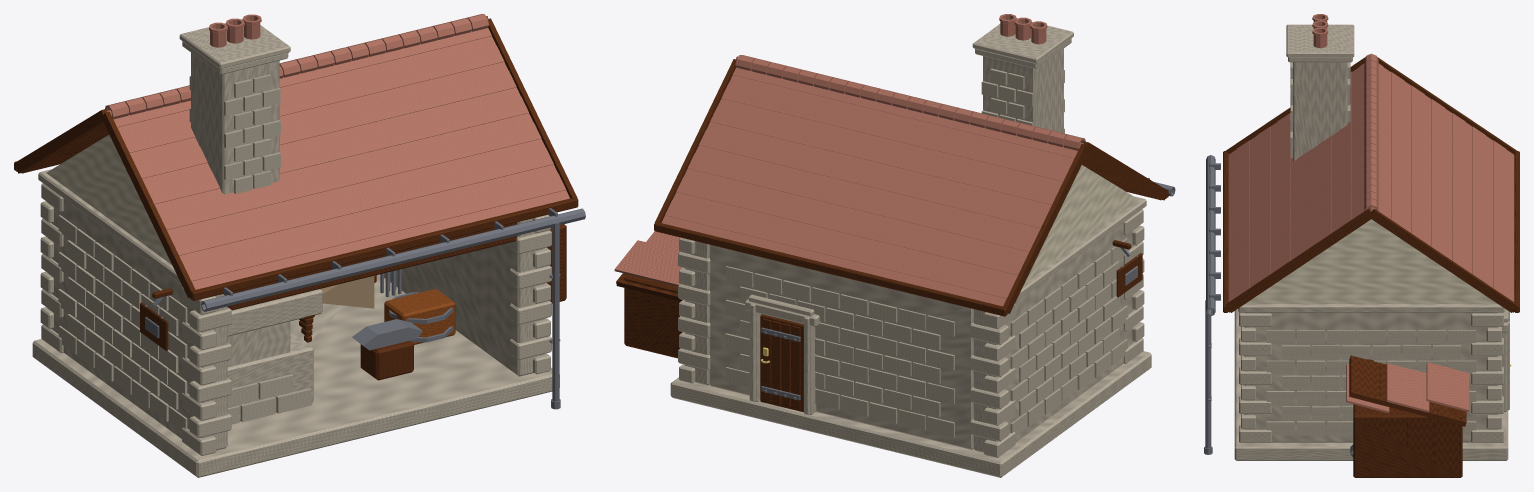
File: fantasy-mmo-city-and-townsfolk-city-smithy-d8883eff__32730.glb
The picture shows the model from 3 angles, left to right: view 1: azimuth 30°, elevation 25°; view 2: azimuth 150°, elevation 25°; view 3: azimuth 270°, elevation 25°; orthographic projection. The views are drawn at different scales.
Visible parts, largest first — view 1: city-smithy, bellows/dirt, sign/timber; view 2: city-smithy, door/timber, sign/timber; view 3: city-smithy.
Boxes of the visible parts, x1,y1,x2,y2 form: city-smithy: (14, 14, 585, 477); bellows/dirt: (320, 276, 374, 308); sign/timber: (140, 302, 168, 350); city-smithy: (614, 14, 1175, 477); door/timber: (760, 314, 803, 412); sign/timber: (1116, 253, 1142, 297); city-smithy: (1204, 14, 1519, 477).
Size of the model in its own units: 12.01 by 9.9 by 8.65.
10 materials, 5 textured.
